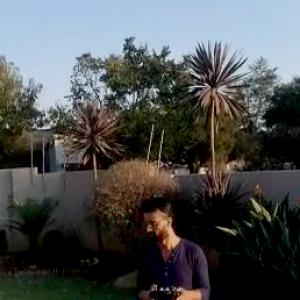follow: (134, 188, 216, 299)
